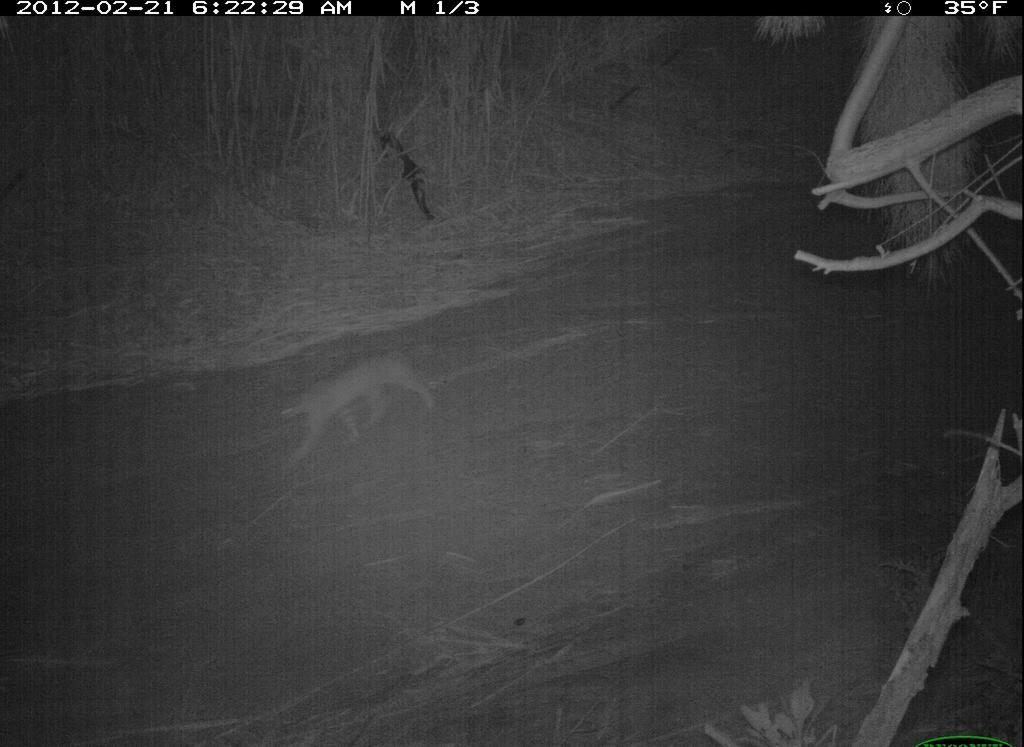bobcat: (269, 329, 441, 449)
